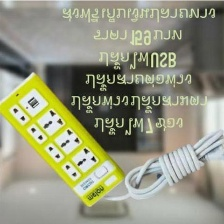three_eye_plug: (0, 65, 128, 210)
